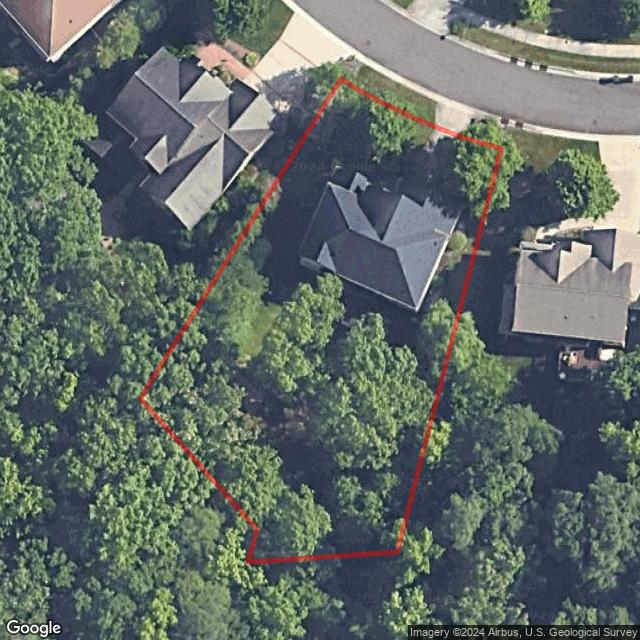Driveway: (407, 129, 458, 191)
Extra-Driveway: (436, 100, 479, 138)
Extra-Lawn: (342, 58, 435, 128), (458, 117, 508, 149)
House: (293, 166, 468, 312)
Lawn: (141, 78, 502, 562)
Other: (143, 303, 448, 560), (295, 270, 403, 343)
